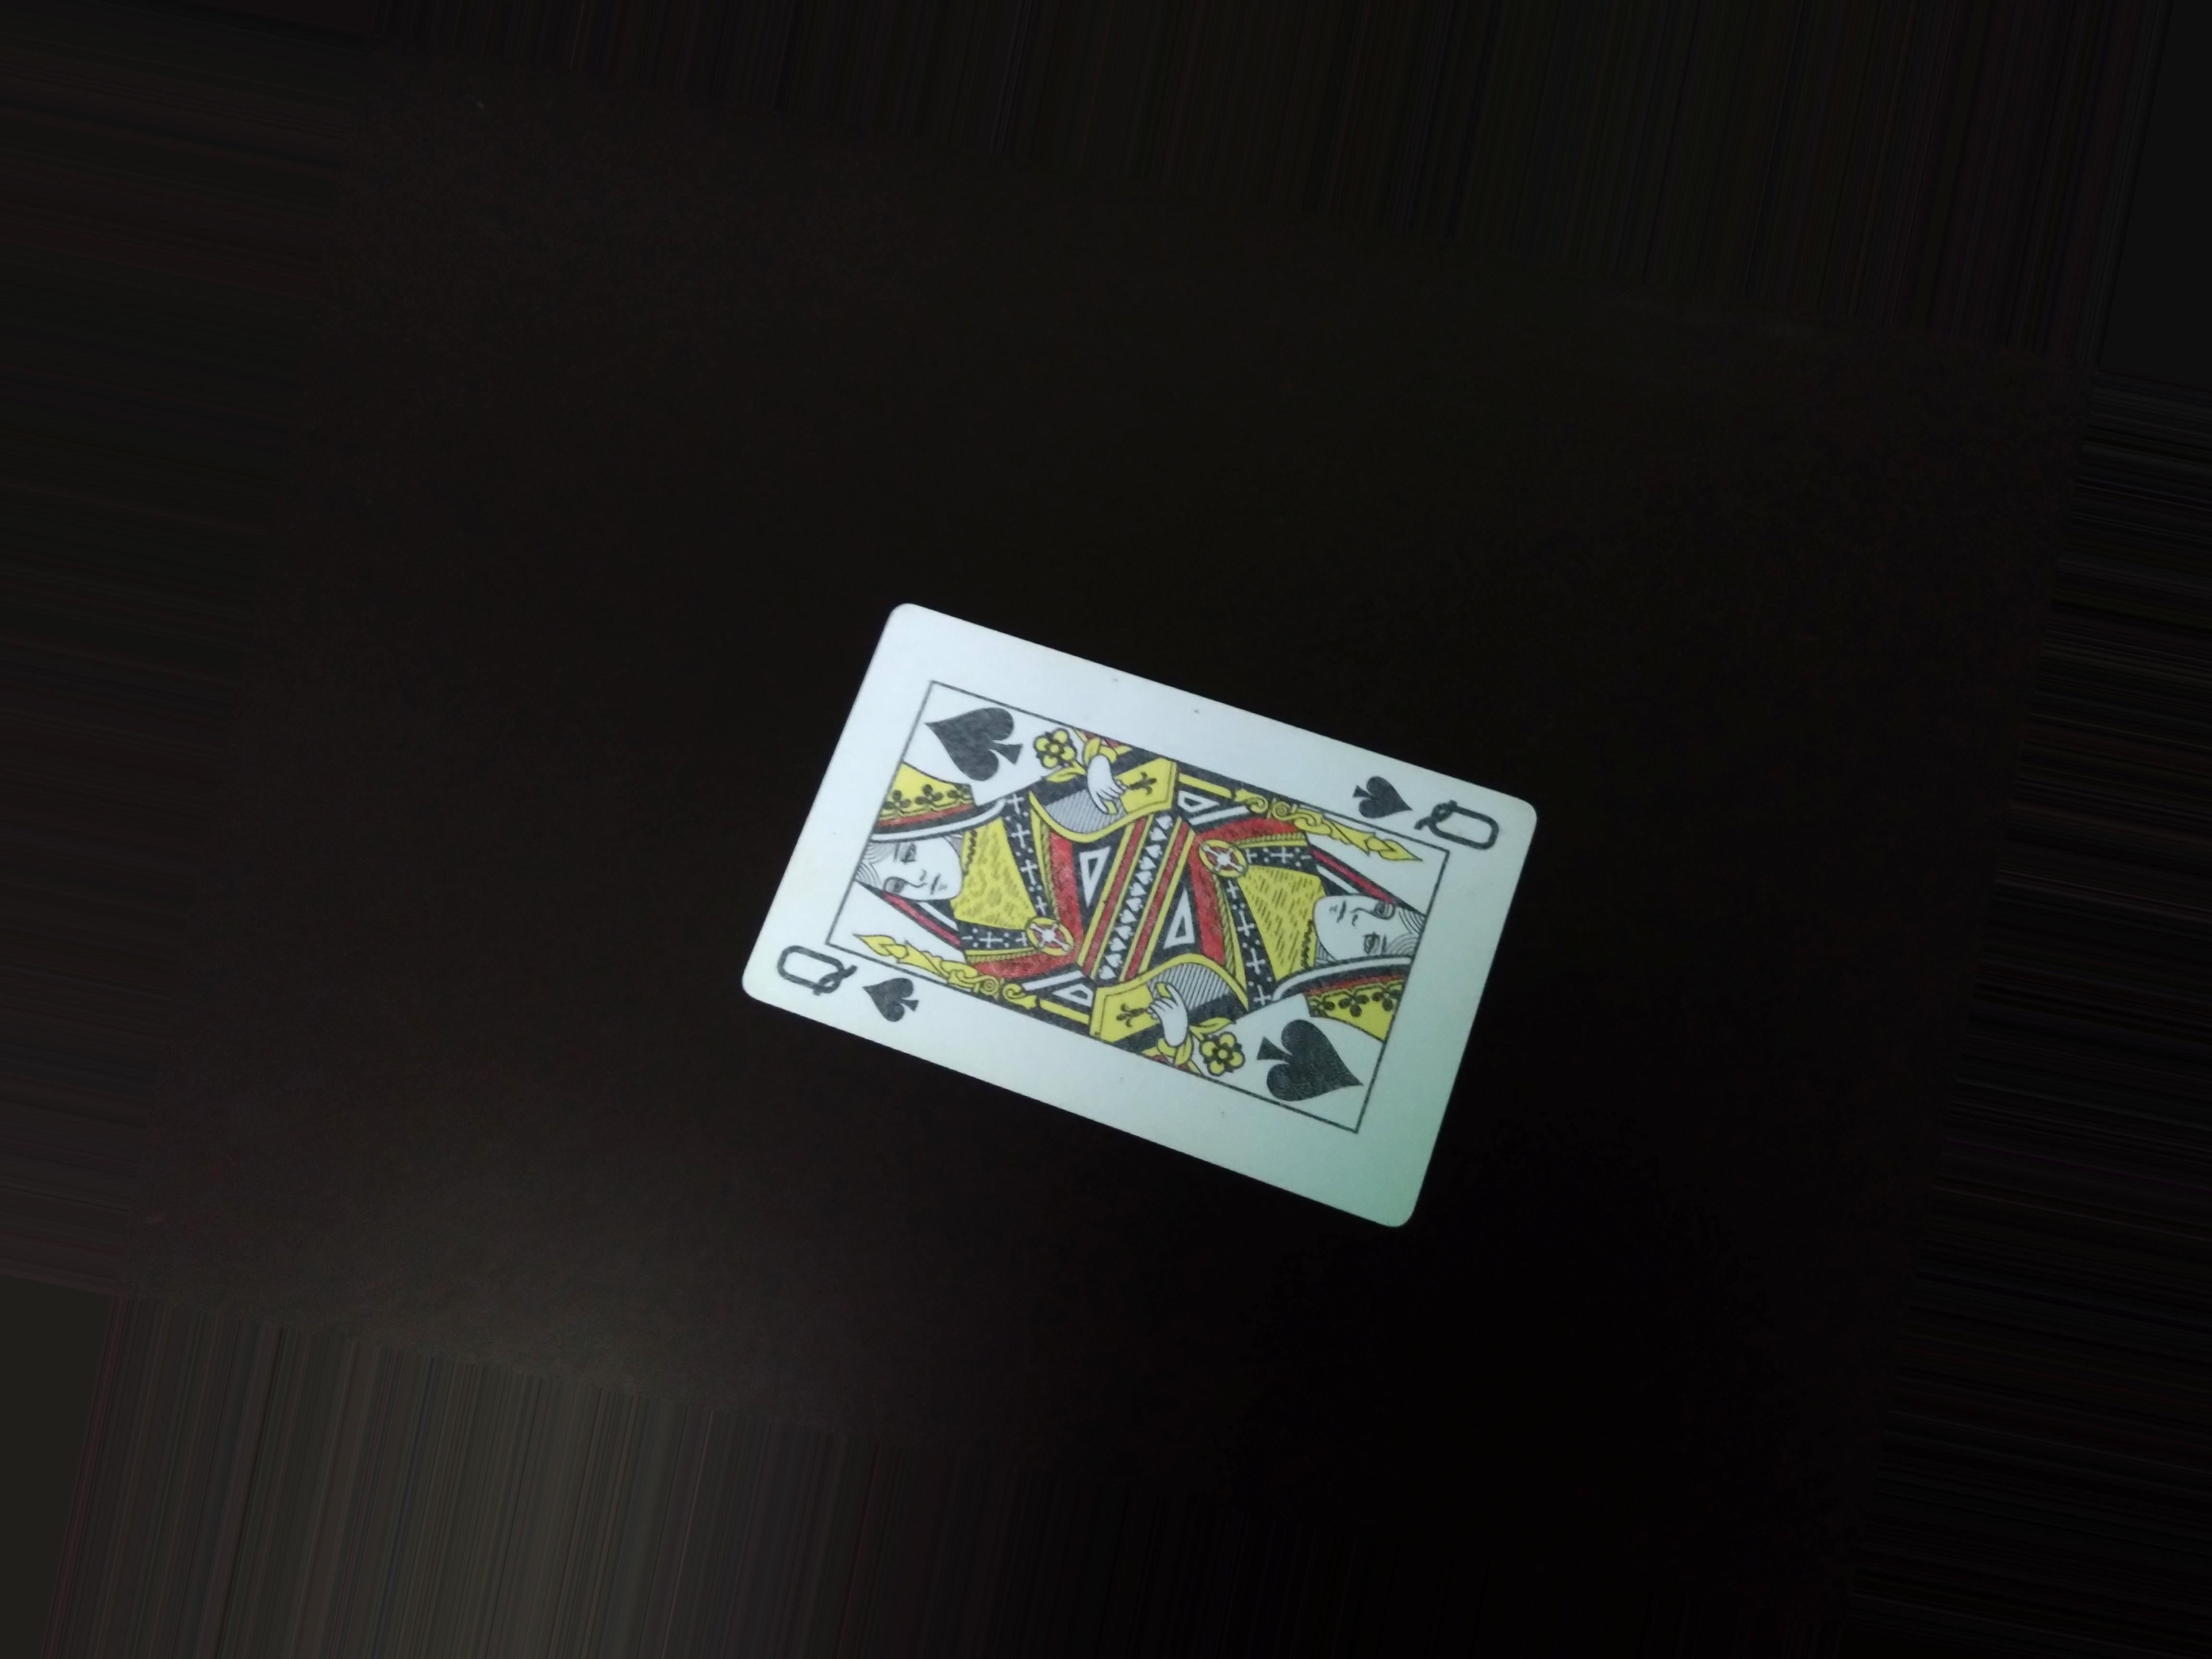QS: (772, 936, 941, 1028)
